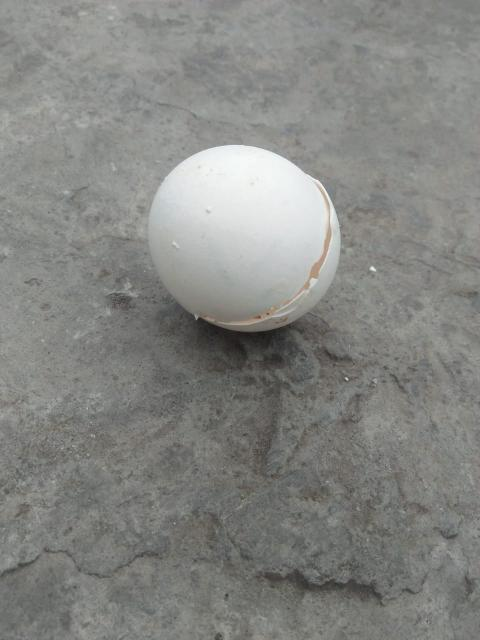Roto: (146, 143, 342, 333)
